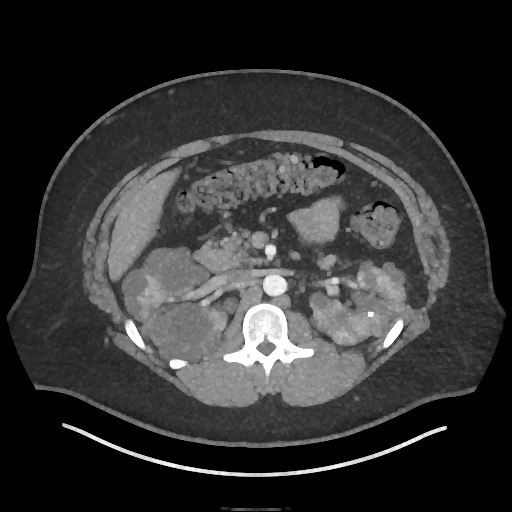Lesion: (334, 328, 351, 347)
